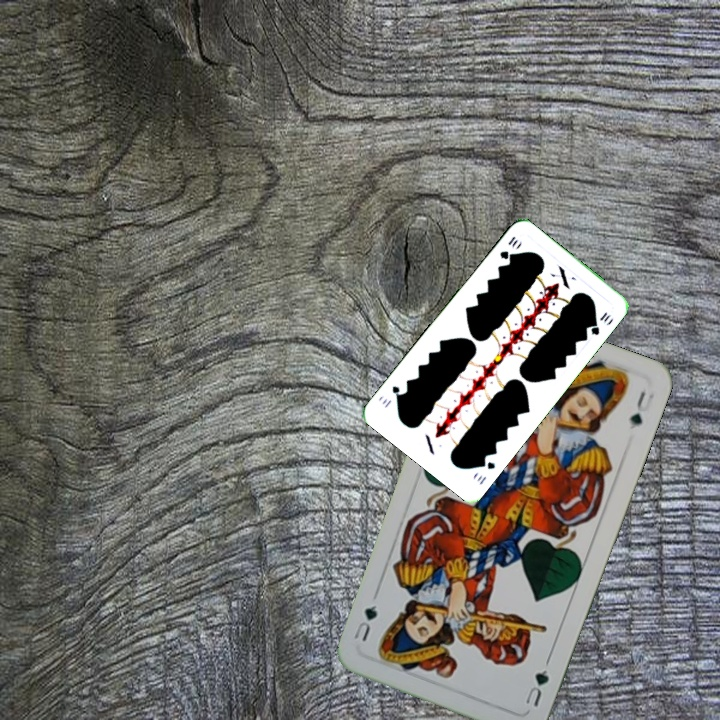G10: (472, 455, 498, 487), (496, 232, 520, 262)
GU: (521, 665, 552, 709)
